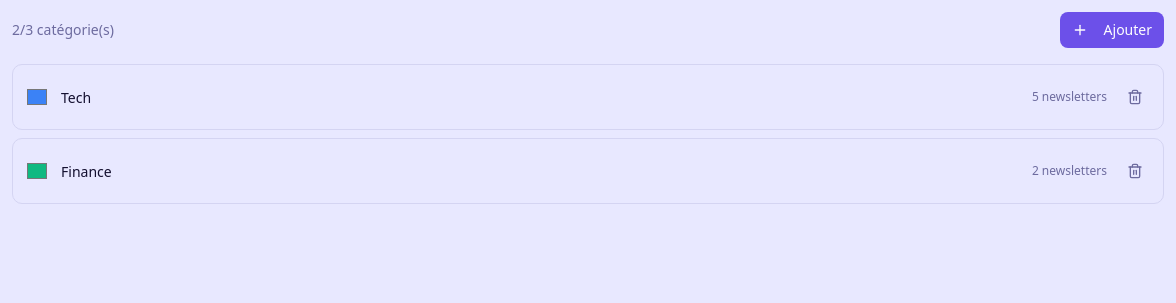
it: CategoriesList › shows add form when add button is clicked
Click the button "Ajouter": [1112, 30] box [1060,12,1164,48]
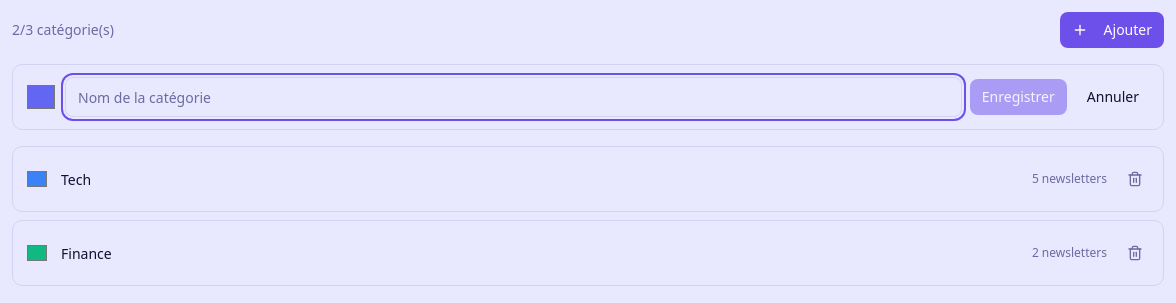
expect the field with placeholder "Nom de la catégorie" is shown: met, box [65,77,962,117]
